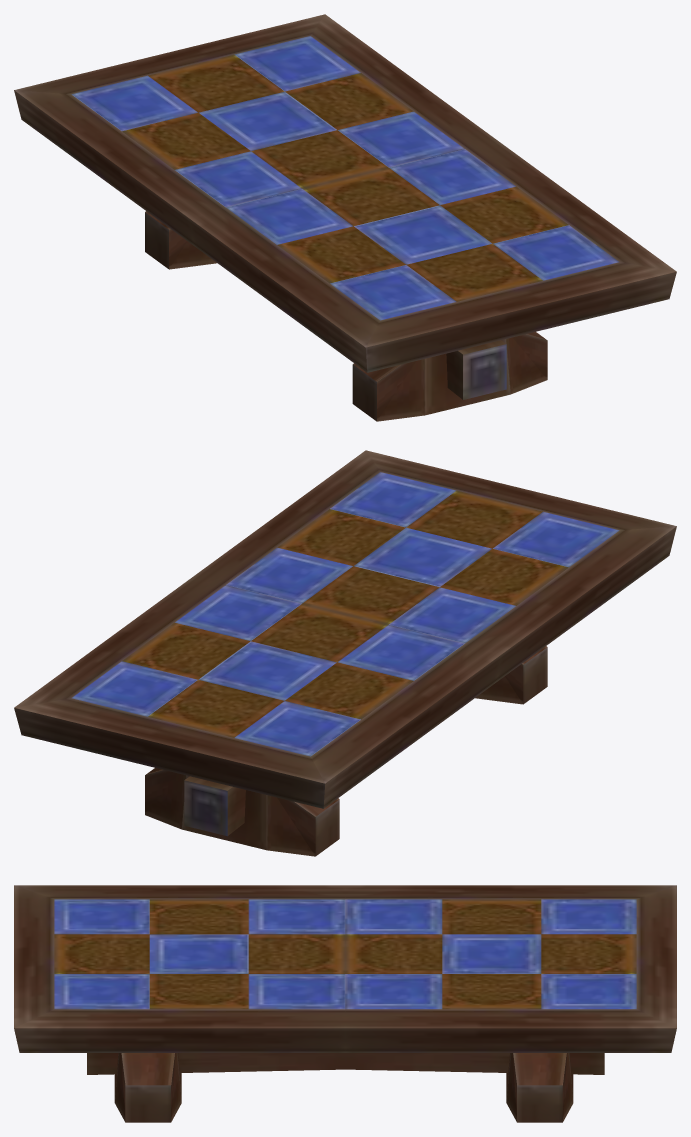
3 views of the same model, one above another, from view 1: azimuth 30°, elevation 25°; view 2: azimuth 150°, elevation 25°; view 3: azimuth 270°, elevation 25° (orthographic). The views are drawn at different scales.
Bounding box in the file's own units: 2.16 × 0.9105 × 4.23.
Materials: 1 (1 with a texture image).
